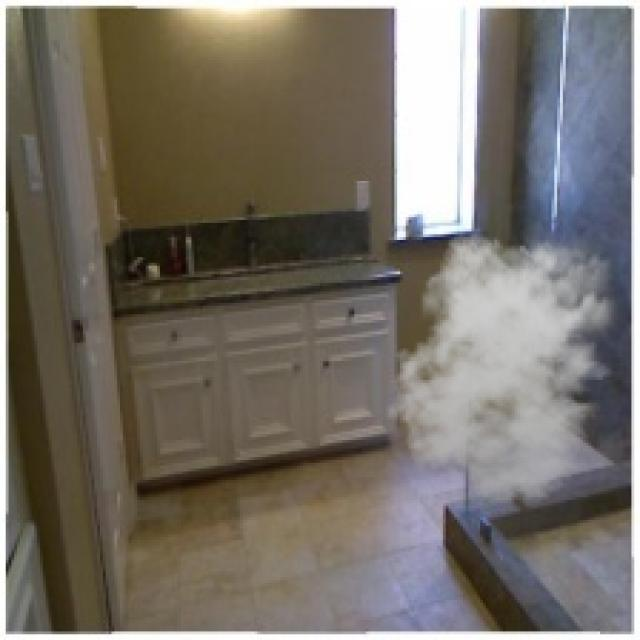smoke: (386, 223, 628, 506)
